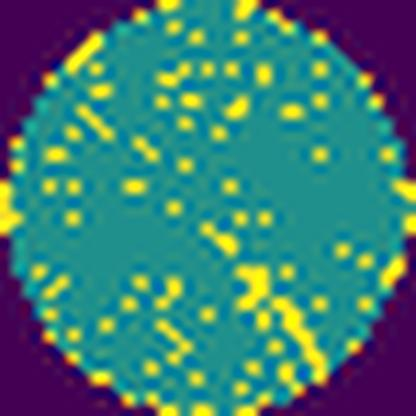Loc: (235, 261, 273, 308)
